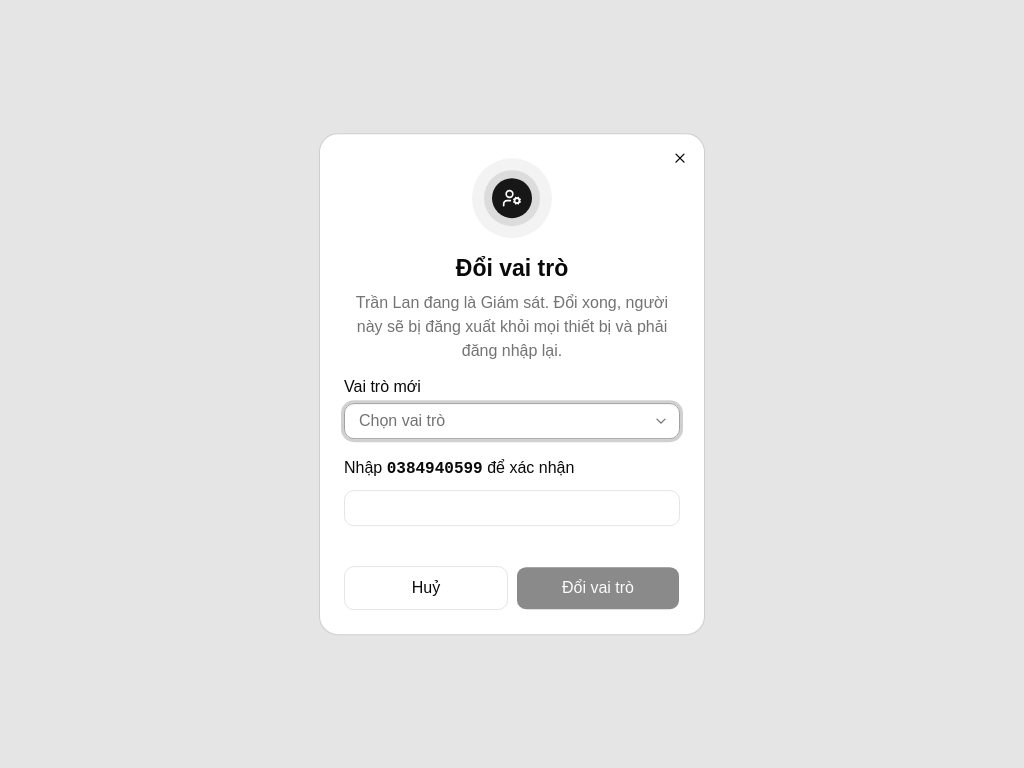
ChangeUserRoleDialog › chưa chọn vai trò hoặc chưa gõ đúng tên đăng nhập → nút Đổi vai trò khoá
Expected: the button "Đổi vai trò" is disabled, [516, 566, 680, 610]
Click the dropdown named "Vai trò mới": (402,420) [344, 403, 680, 439]
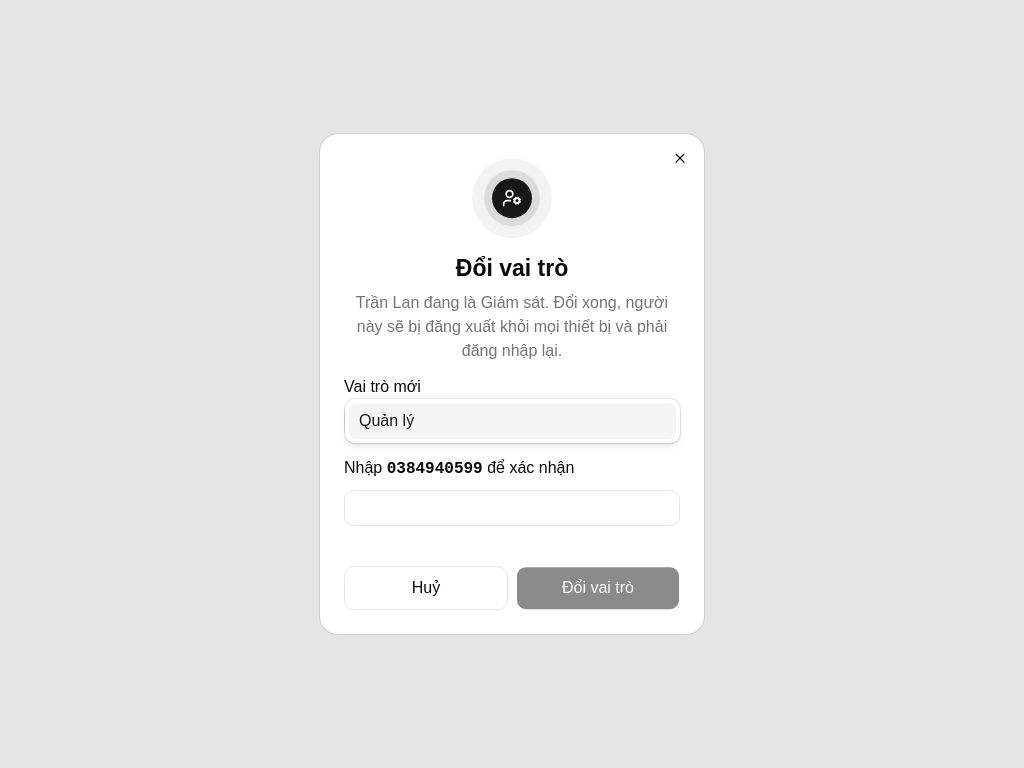
Click the option "Quản lý": (387,420) [349, 403, 676, 439]
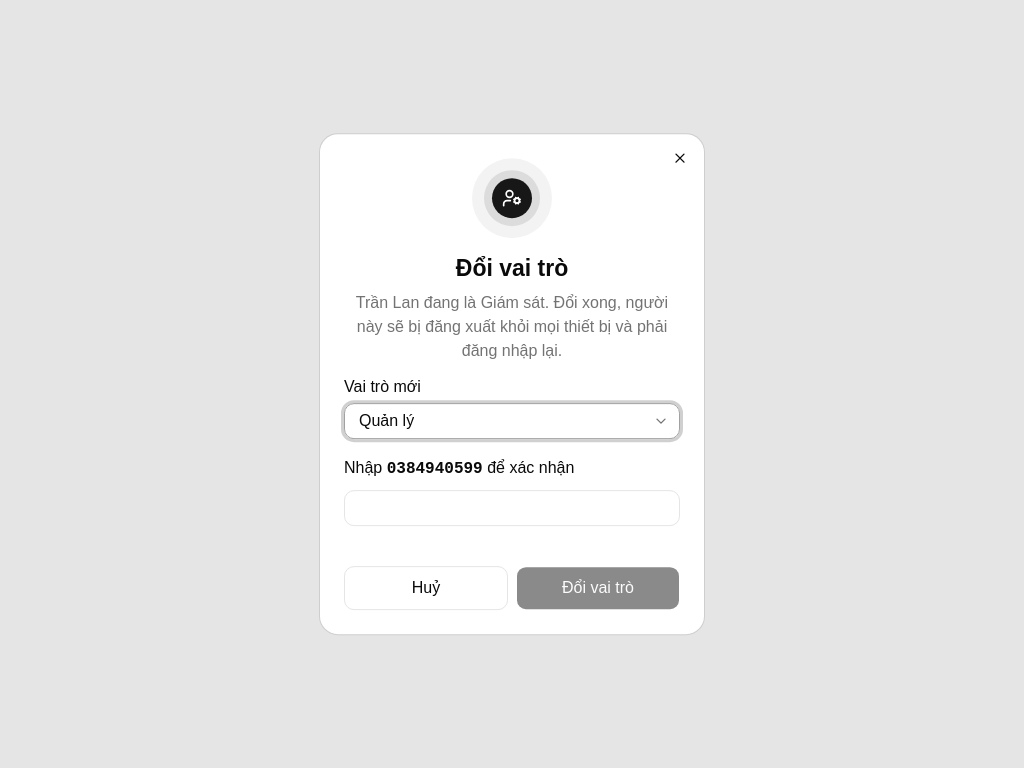
Expected: the button "Đổi vai trò" is disabled, [516, 566, 680, 610]
In the field labelled "Nhập 0384940599 để xác nhận": (512,508) [344, 490, 680, 526], type "0384940599"
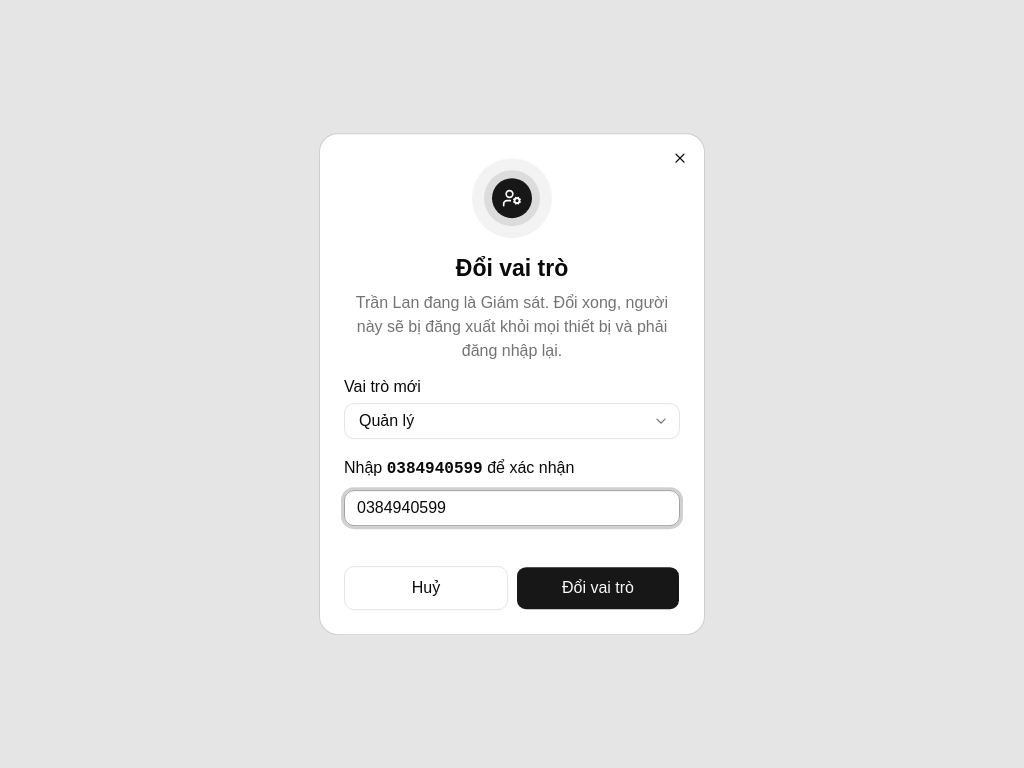
Result: the button "Đổi vai trò" is enabled at [516, 566, 680, 610]
